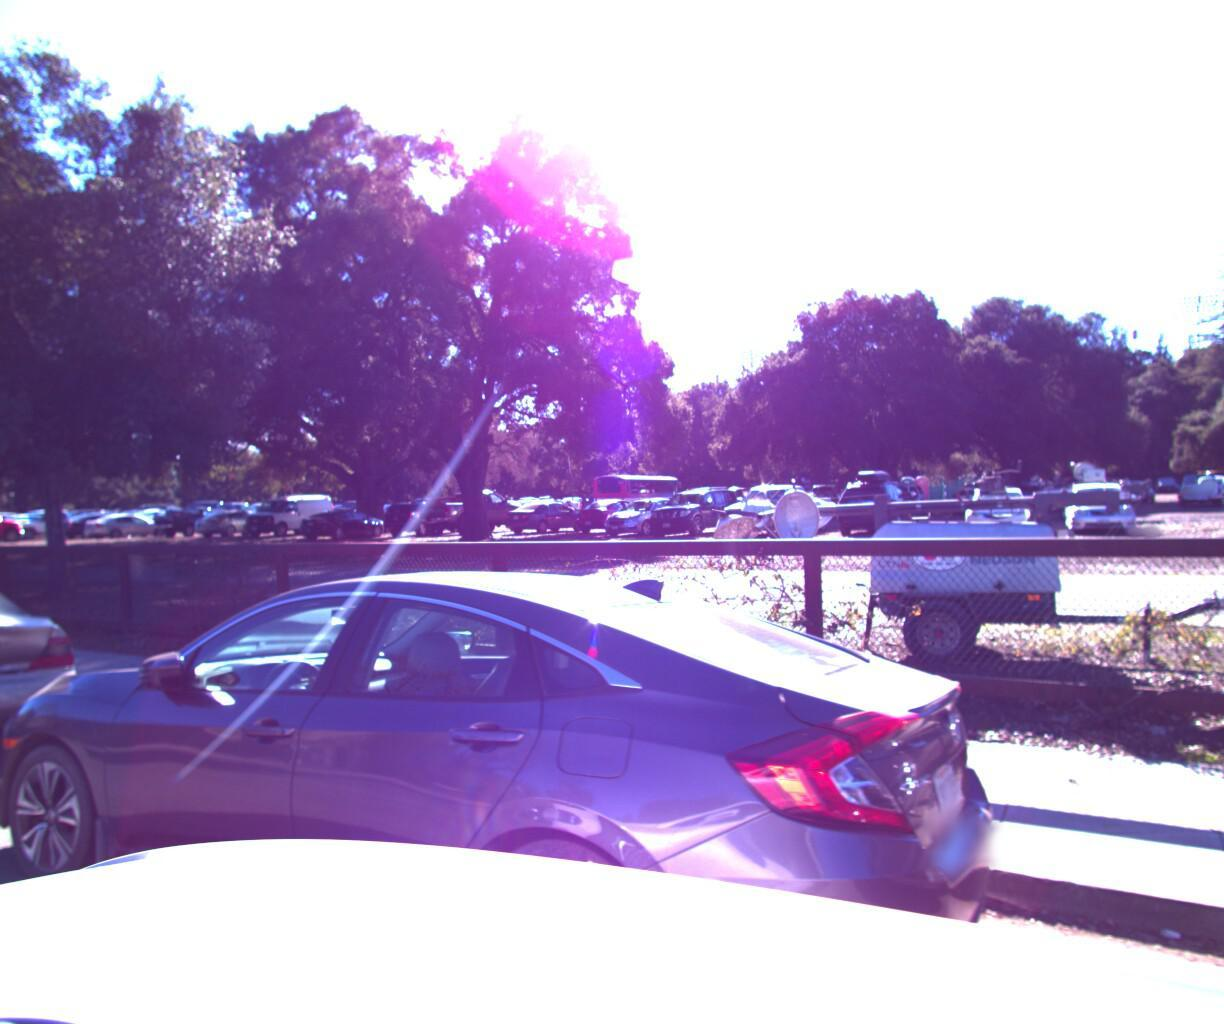car: (0, 551, 1019, 1024), (0, 557, 121, 823)
other_vehicle: (668, 430, 1224, 712)
